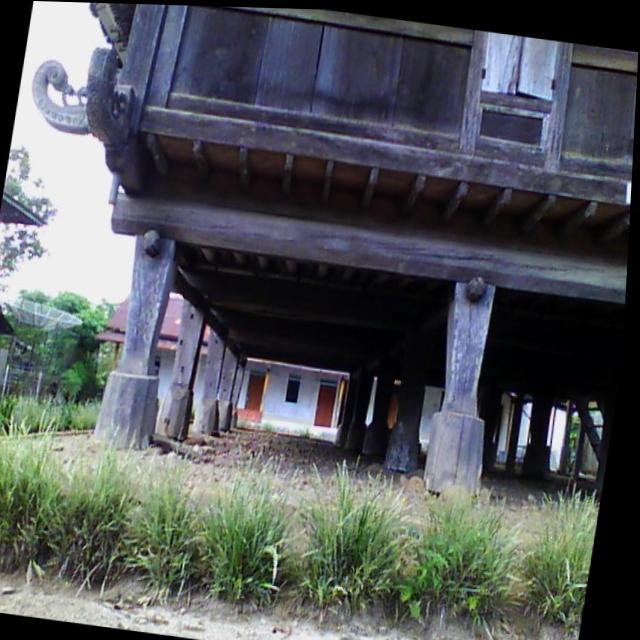Atap: (91, 3, 131, 65)
Tembok Bangunan: (110, 4, 638, 203)
jendela: (479, 32, 558, 99)
